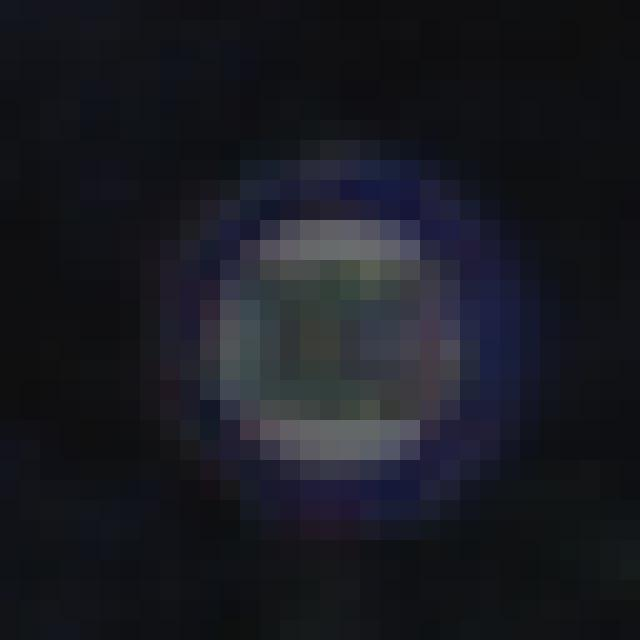SPEED LIMIT 100: (157, 143, 522, 527)
